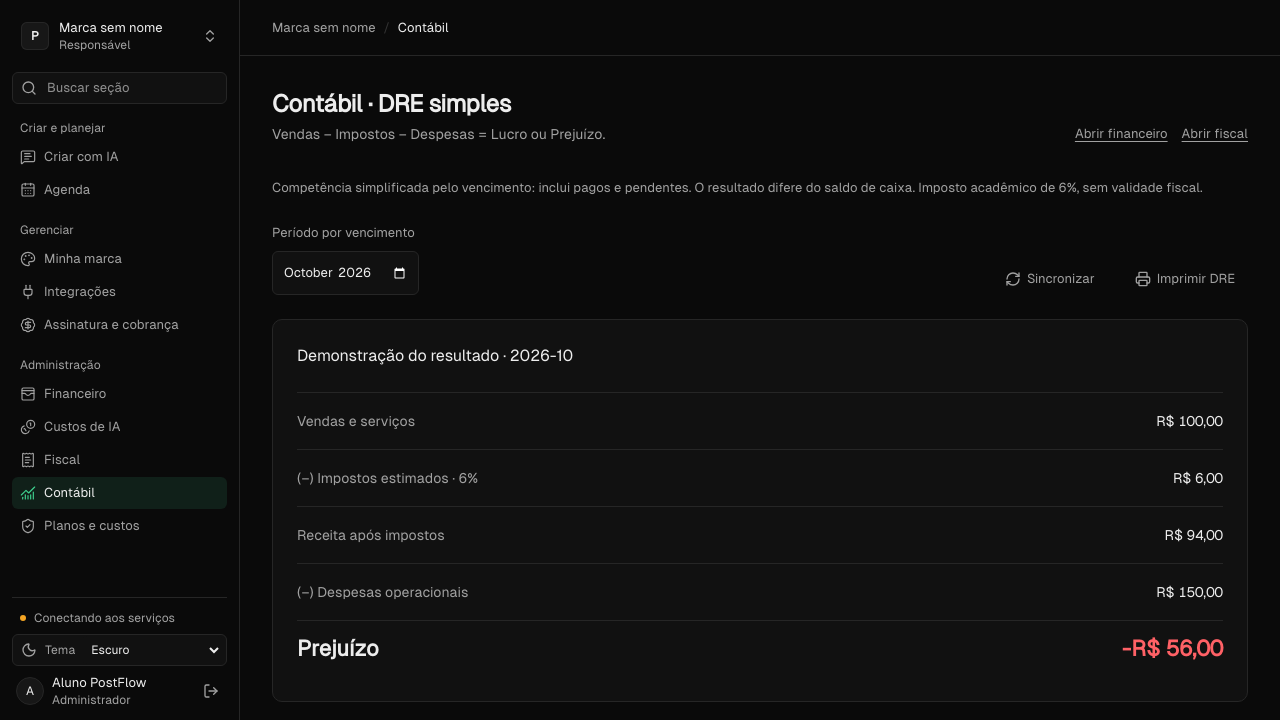
Test: AccountingPage › informa prejuízo, mês vazio e entradas excluídas
Check: the text "Prejuízo" is shown, box [297,639,379,659]
Replace the text in the field named "Período contábil" with "2026-11" at (346, 273), box [272,251,419,295]
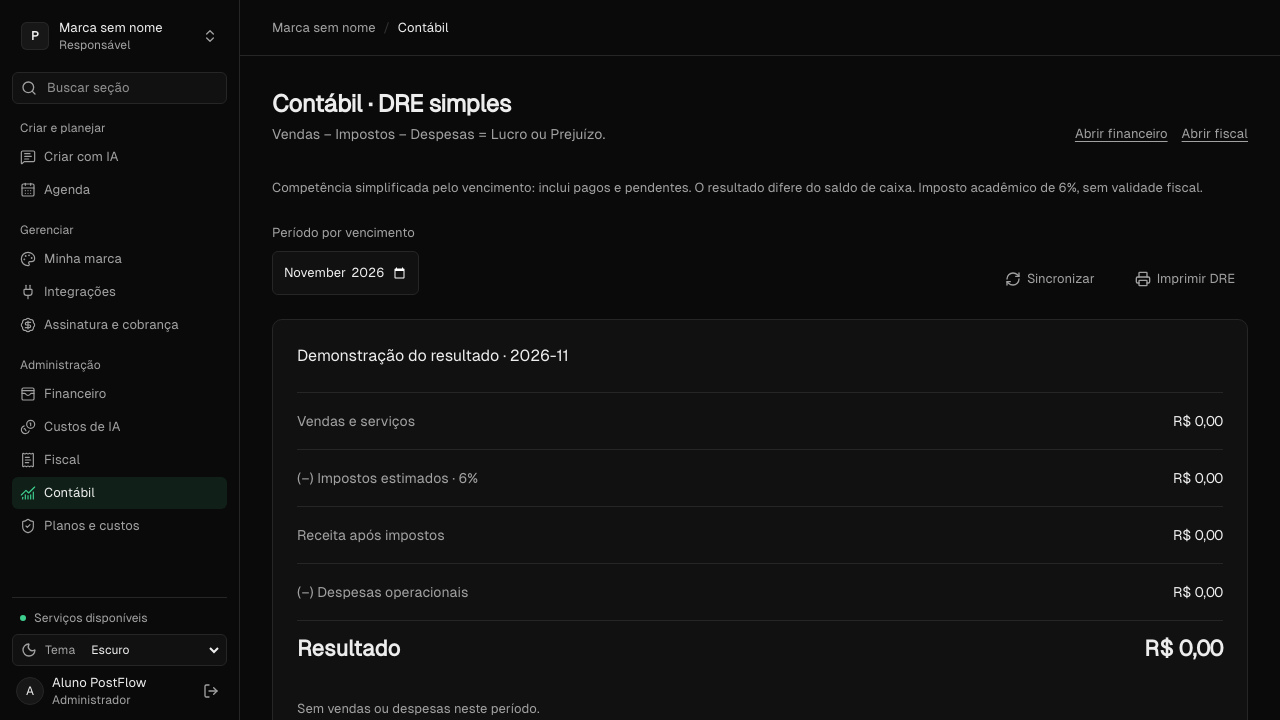
Check: the text "Sem vendas ou despesas neste período." is shown, box [297,701,540,716]
